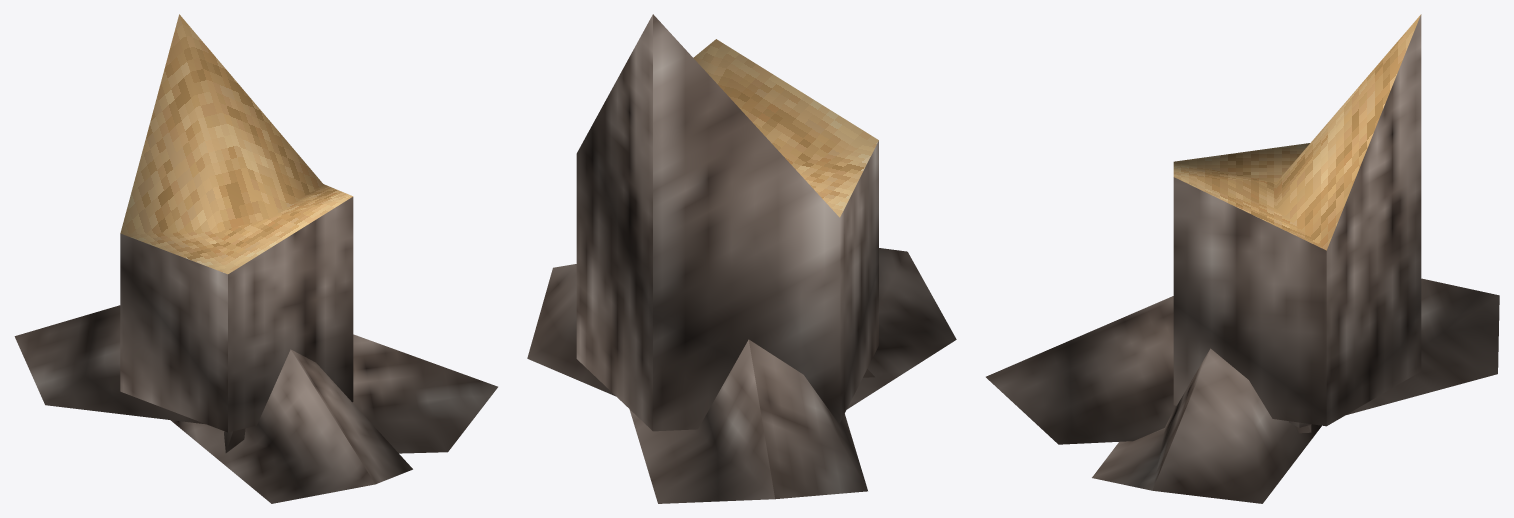
Rendered from stump_1.obj.
The picture shows the model from 3 angles, left to right: view 1: azimuth 30°, elevation 25°; view 2: azimuth 150°, elevation 25°; view 3: azimuth 270°, elevation 25°; orthographic projection. The views are drawn at different scales.
Visible parts, largest first — view 1: stump_1; view 2: stump_1; view 3: stump_1.
Boxes of the visible parts, bbox=[...] form: stump_1: bbox=[14, 14, 497, 503]; stump_1: bbox=[527, 14, 956, 503]; stump_1: bbox=[986, 14, 1499, 503].
Size of the model in its own units: 1.33 by 1.31 by 1.54.
